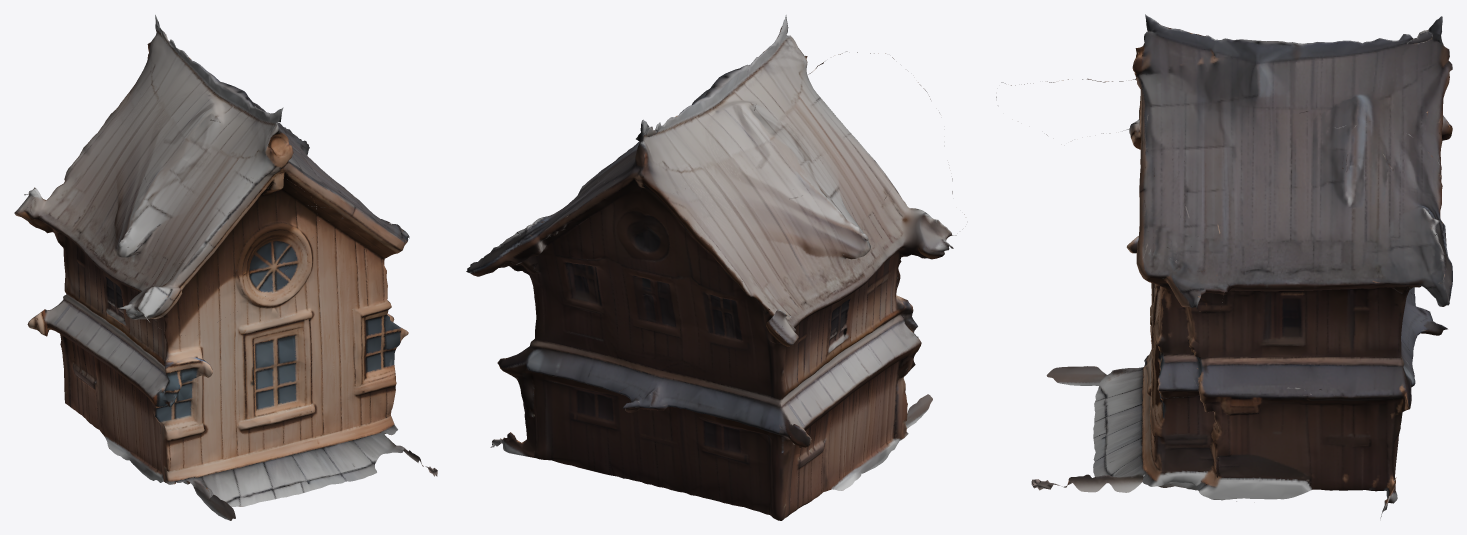
Rendered from cabin2-16-47-20.fbx.
3 renders of one model, left to right at view 1: azimuth 30°, elevation 25°; view 2: azimuth 150°, elevation 25°; view 3: azimuth 270°, elevation 25°, orthographic. The views are drawn at different scales.
Parts seen in each view (by area): view 1: lowpoly; view 2: lowpoly; view 3: lowpoly.
Part boxes in pixels (bbox=[...]): lowpoly: bbox=[14, 15, 437, 520]; lowpoly: bbox=[466, 15, 964, 520]; lowpoly: bbox=[996, 14, 1452, 518].
Size of the model in its own units: 177 by 198 by 187.
1 material, 1 textured.
